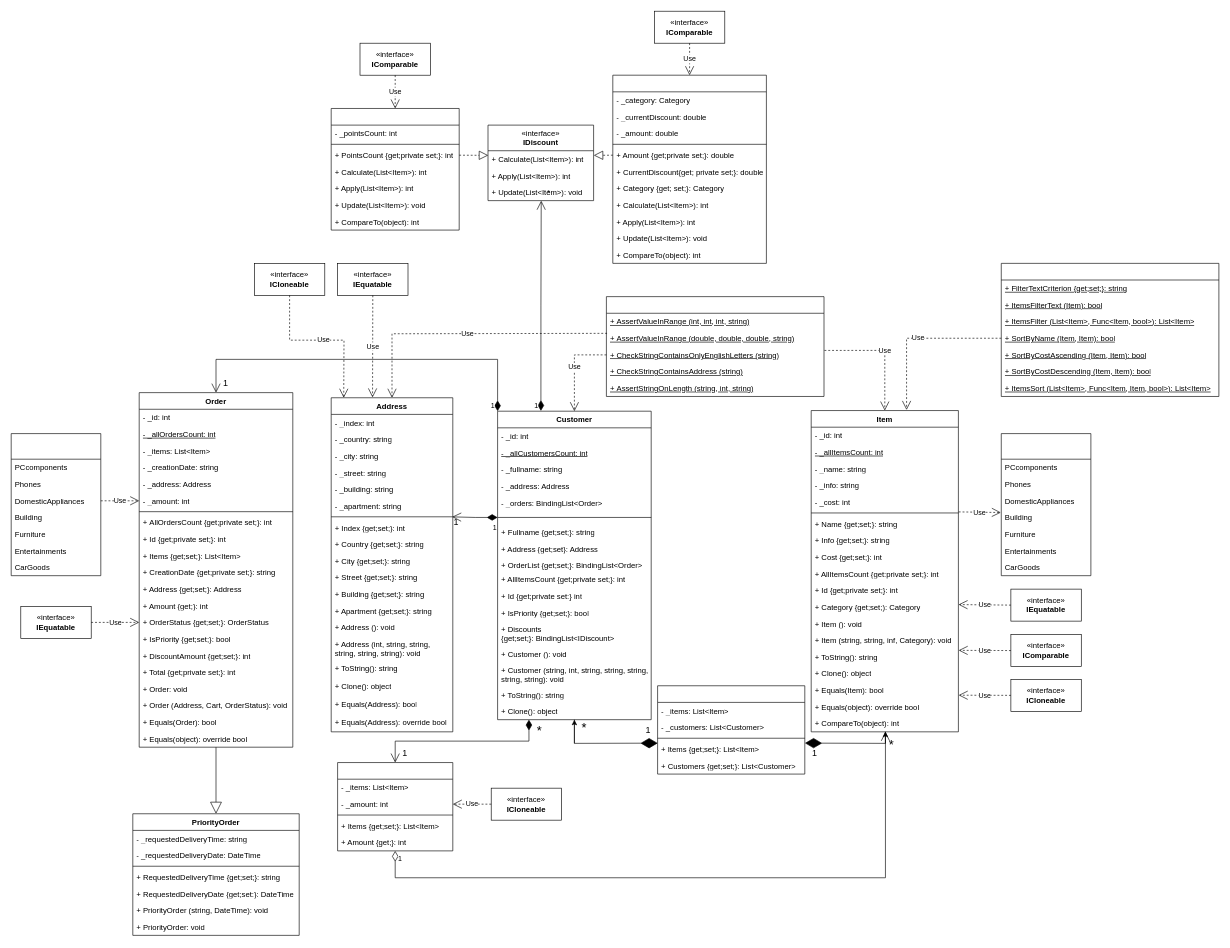
This 1230x948 diagram has some shape labels left out. Here are the shapes that lost their labels. From the top down, the box of each, then its label:
(331, 108, 459, 230): PointsDiscount
(612, 75, 766, 263): PercentDiscount
(606, 296, 824, 396): Validator
(1001, 263, 1219, 396): DataTools
(11, 433, 101, 576): «enumeration» OrderStatus
(1001, 433, 1091, 576): «enumeration» Category
(657, 685, 805, 774): Store
(337, 762, 453, 851): Cart
